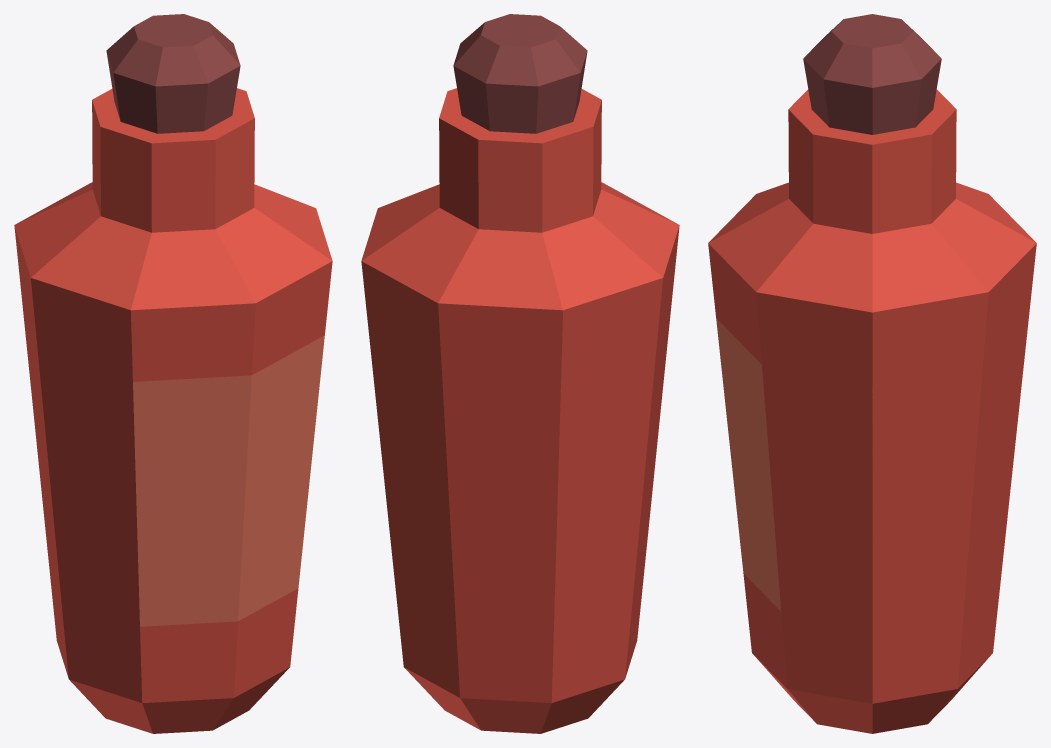
File: Bottle_3_Red.fbx
3 views of the same model, side by side, from view 1: azimuth 30°, elevation 25°; view 2: azimuth 150°, elevation 25°; view 3: azimuth 270°, elevation 25° (orthographic).
Parts seen in each view (by area): view 1: Bottle_3_Red_Part_1, Bottle_3_Red_Part_2, Bottle_3_Red_Part_3; view 2: Bottle_3_Red_Part_1, Bottle_3_Red_Part_3; view 3: Bottle_3_Red_Part_1, Bottle_3_Red_Part_3, Bottle_3_Red_Part_2.
Boxes of the visible parts, x1,y1,x2,y2 form: Bottle_3_Red_Part_1: (14, 88, 332, 733); Bottle_3_Red_Part_2: (133, 335, 324, 626); Bottle_3_Red_Part_3: (106, 14, 240, 133); Bottle_3_Red_Part_1: (361, 88, 679, 733); Bottle_3_Red_Part_3: (453, 14, 587, 133); Bottle_3_Red_Part_1: (708, 89, 1036, 733); Bottle_3_Red_Part_3: (803, 14, 941, 134); Bottle_3_Red_Part_2: (716, 318, 781, 611).
Size of the model in its own units: 13.35 by 30 by 13.35.
